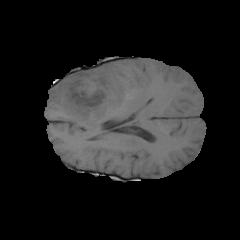glioma: (47, 65, 125, 125)
